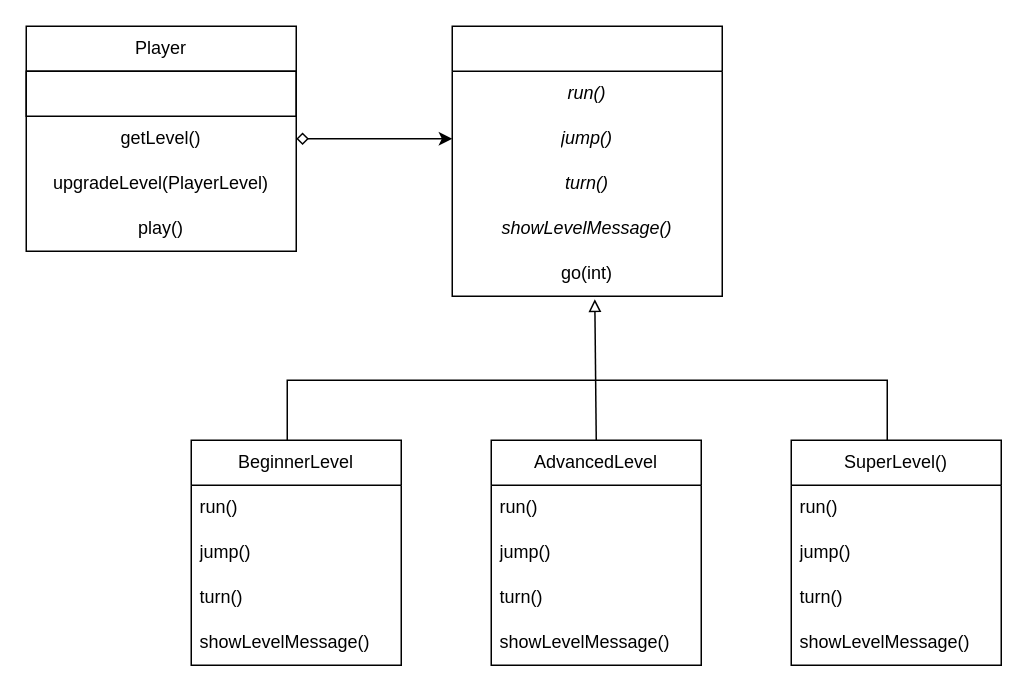
Image size: 1028x692. Some labels were removed from this diagram. Here are the shapes that lost their labels. From the top down, the box of each, then its label:
(25, 70, 296, 116): level
(451, 25, 722, 296): PlayerLevel
